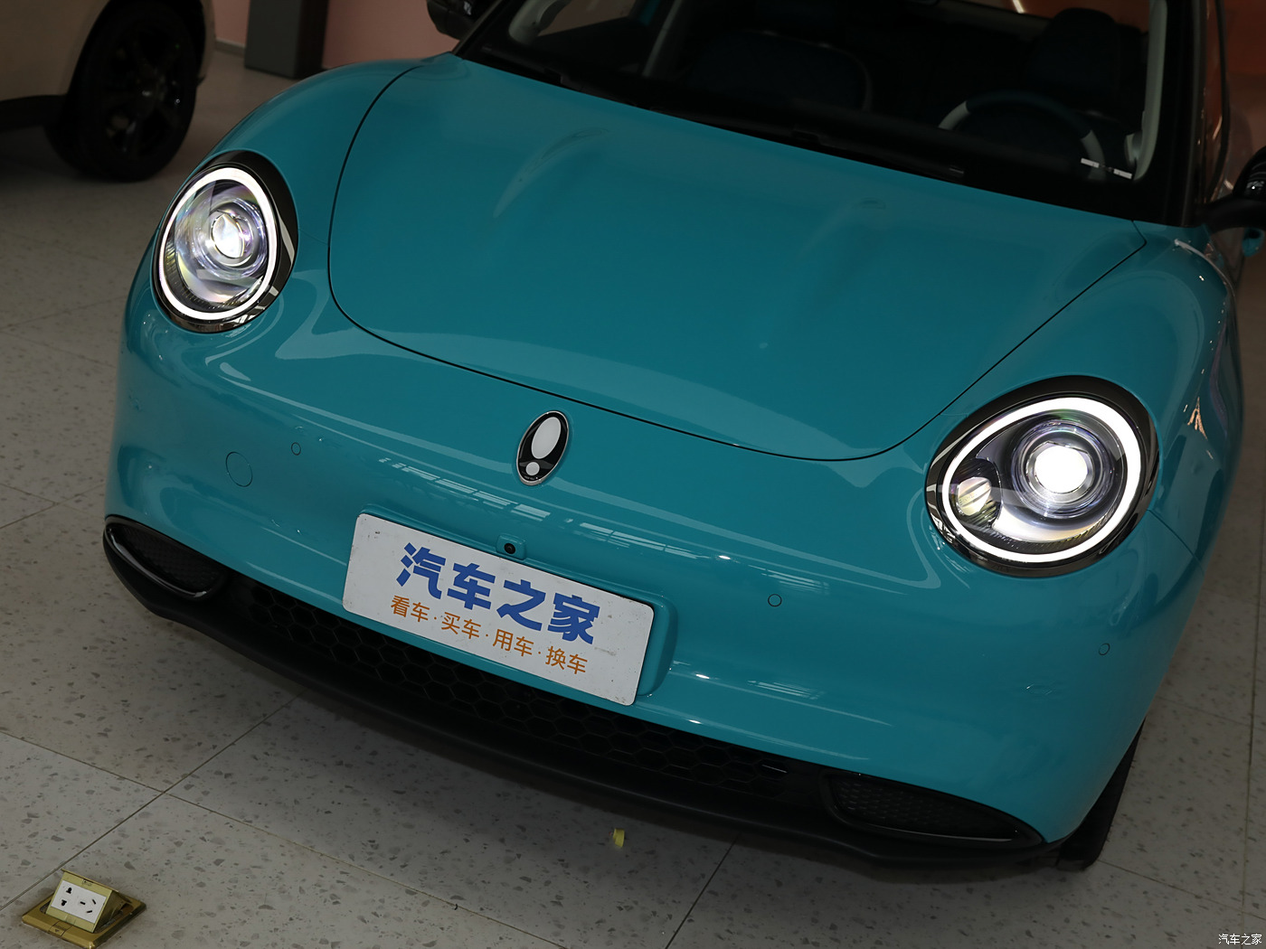ORA: (518, 412, 568, 482)
